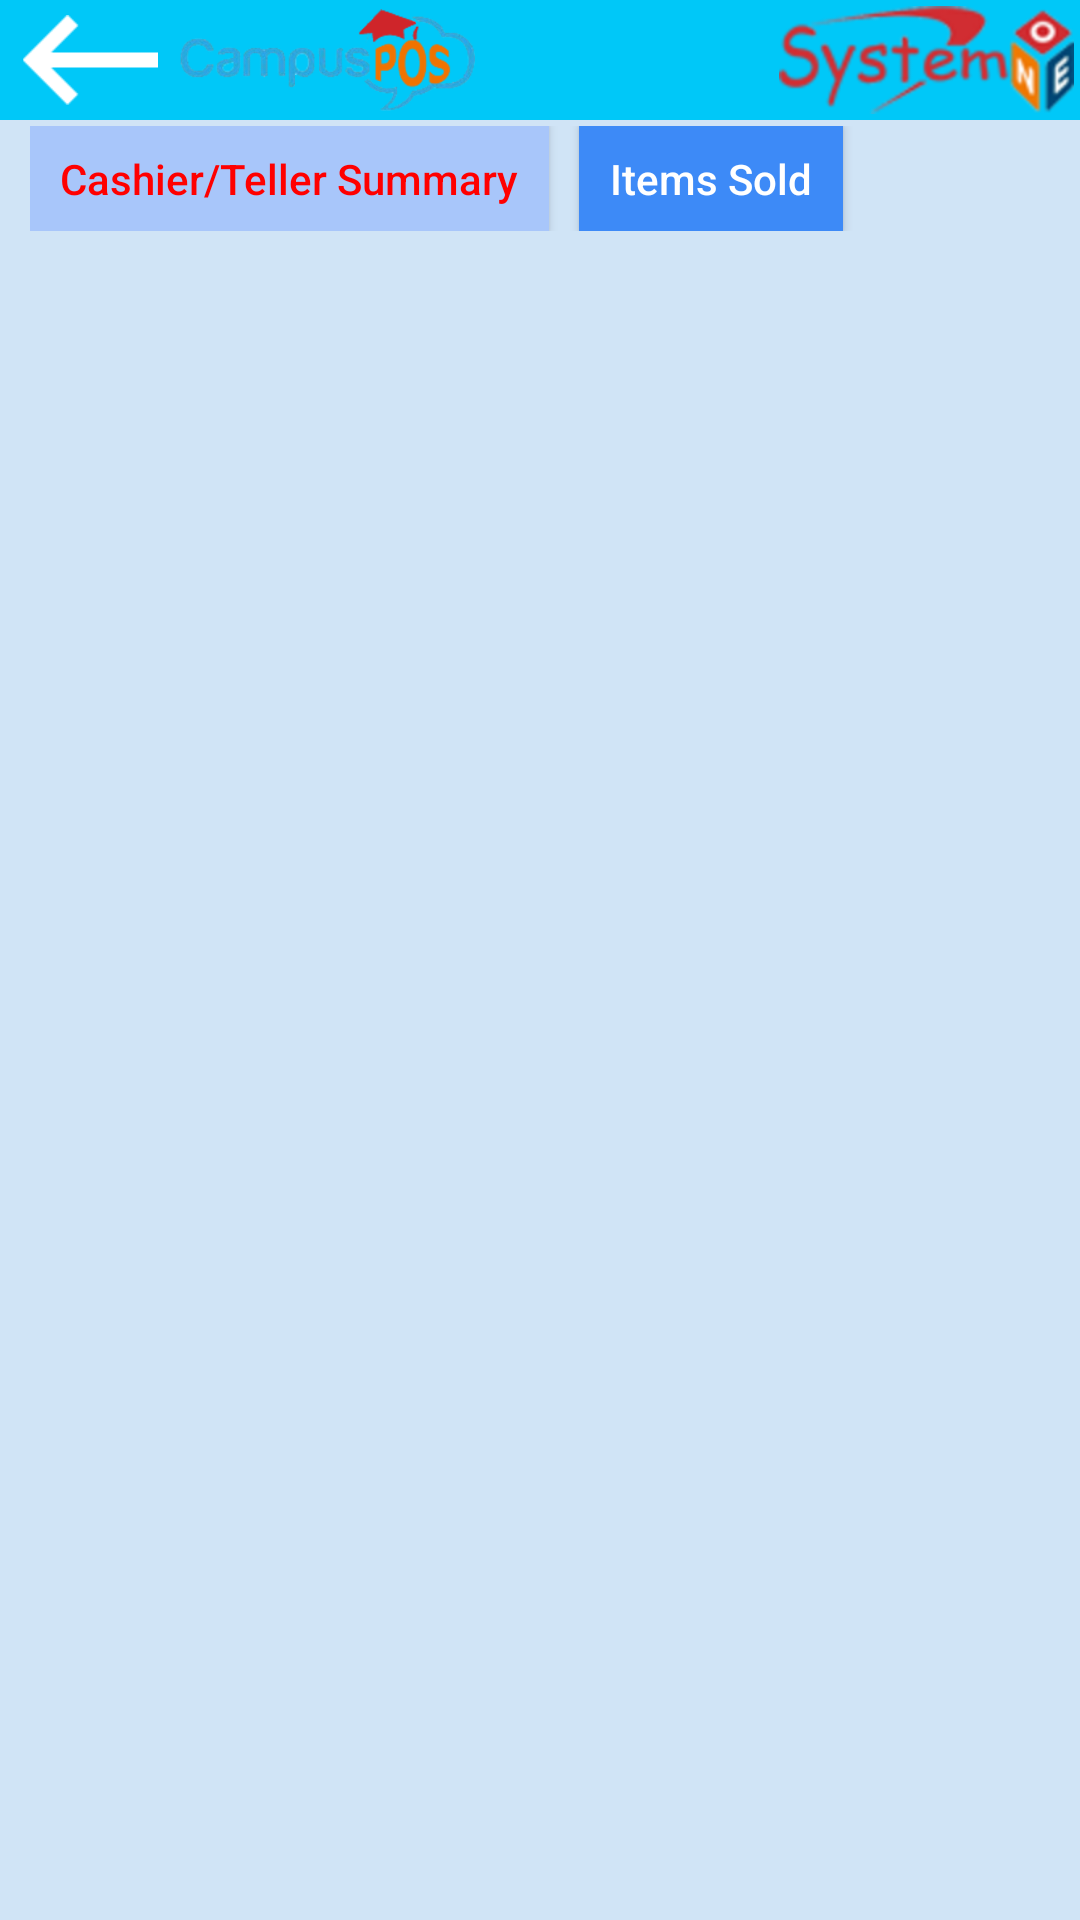

Where icons sit on this 1080px x 1920px app screen, as (x1, y1, x2, y2):
back: (23, 15, 158, 105)
